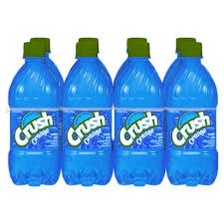bottle: (162, 37, 220, 191), (111, 36, 167, 195), (7, 40, 64, 190), (57, 40, 115, 187)
